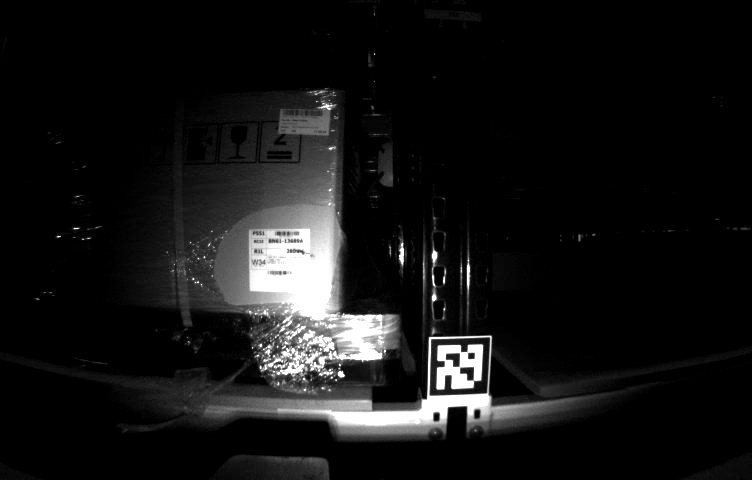True Barcode: (247, 228, 312, 280)
